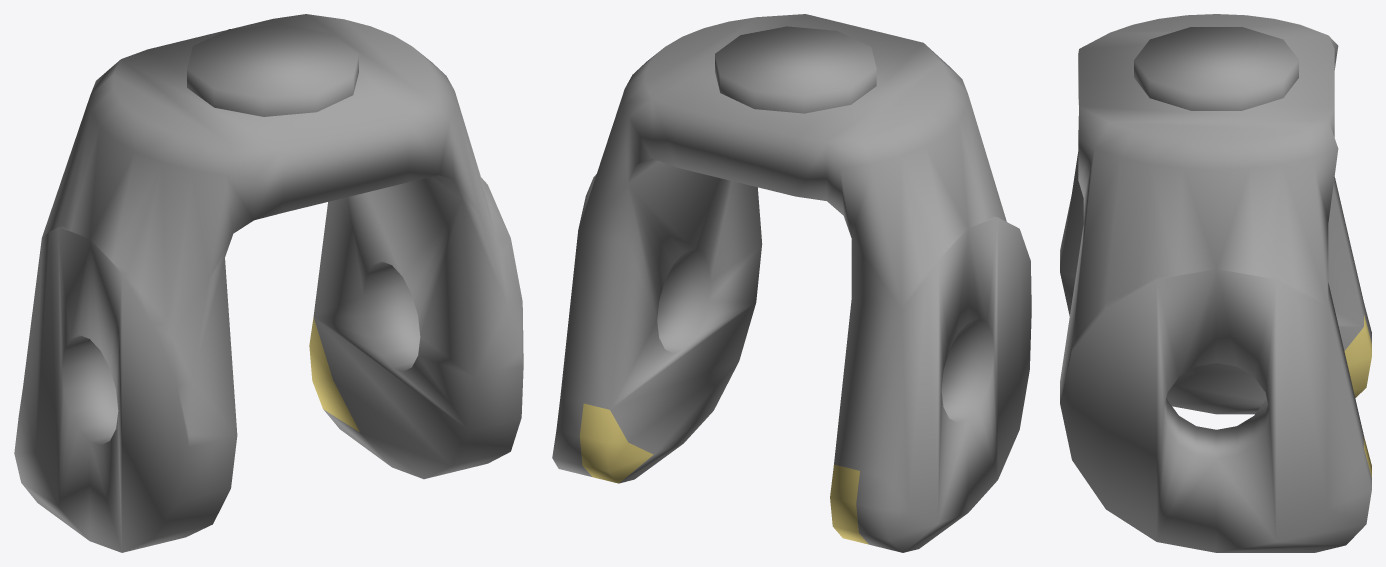
Rendered from VIS_hollie_real_008_visual.dae.
The picture shows the model from 3 angles, left to right: view 1: azimuth 30°, elevation 25°; view 2: azimuth 150°, elevation 25°; view 3: azimuth 270°, elevation 25°; orthographic projection. The views are drawn at different scales.
Visible parts, largest first — view 1: VIS_hollie_real_008_visual; view 2: VIS_hollie_real_008_visual; view 3: VIS_hollie_real_008_visual.
Part boxes in pixels (x1,y1,x2,y2): VIS_hollie_real_008_visual: [14, 14, 523, 552]; VIS_hollie_real_008_visual: [552, 14, 1031, 552]; VIS_hollie_real_008_visual: [1060, 14, 1371, 552].
Size of the model in its own units: 0.0303 by 0.0238 by 0.0344.
